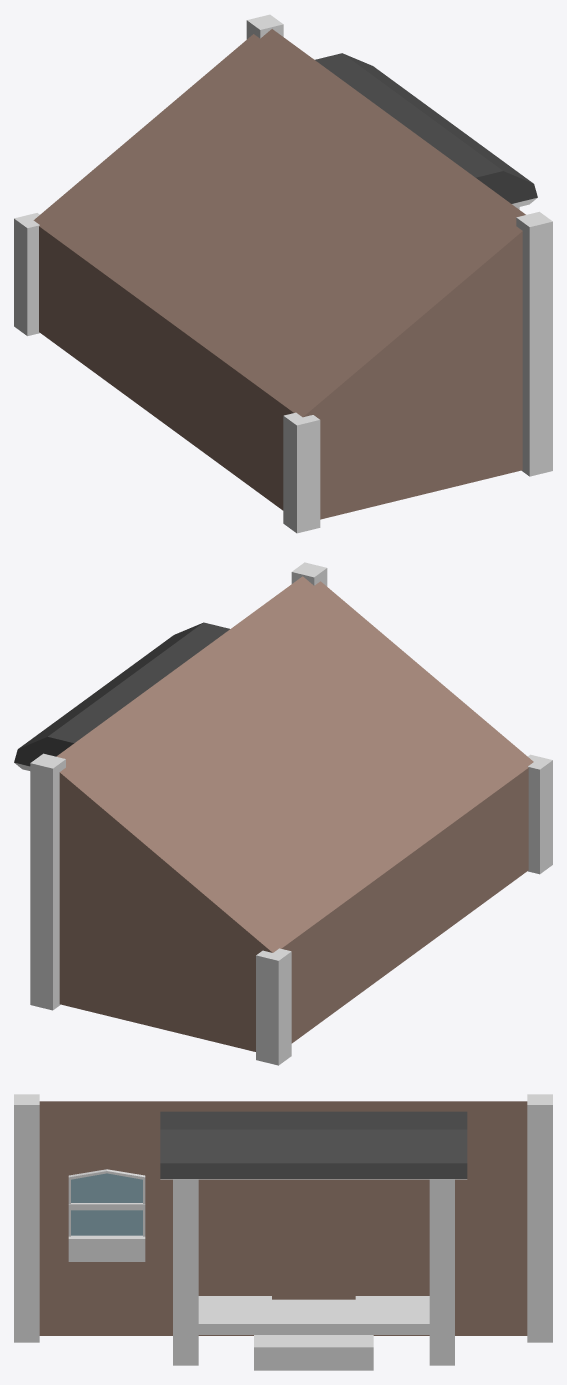
File: HausHalf.glb
The picture shows the model from 3 angles, top to bottom: view 1: azimuth 30°, elevation 25°; view 2: azimuth 150°, elevation 25°; view 3: azimuth 270°, elevation 25°; orthographic projection. The views are drawn at different scales.
Visible parts, largest first — view 1: Cube.015, Cube.016, Cube.018; view 2: Cube.015, Cube.016, Cube.018; view 3: Cube.015, Cube.018, Cube.017, Cube.016, Cube.019.
Part boxes in pixels (left/top/right/bottom): Cube.015: left=33, top=29, right=525, bottom=519; Cube.016: left=14, top=14, right=552, bottom=533; Cube.018: left=315, top=53, right=537, bottom=209; Cube.015: left=56, top=576, right=533, bottom=1051; Cube.016: left=30, top=562, right=552, bottom=1065; Cube.018: left=14, top=622, right=229, bottom=770; Cube.015: left=39, top=1101, right=527, bottom=1335; Cube.018: left=160, top=1111, right=467, bottom=1365; Cube.017: left=198, top=1296, right=429, bottom=1370; Cube.016: left=14, top=1094, right=552, bottom=1342; Cube.019: left=68, top=1169, right=145, bottom=1261.
Bounding box in the file's own units: 28.44 × 20.45 × 42.04.
